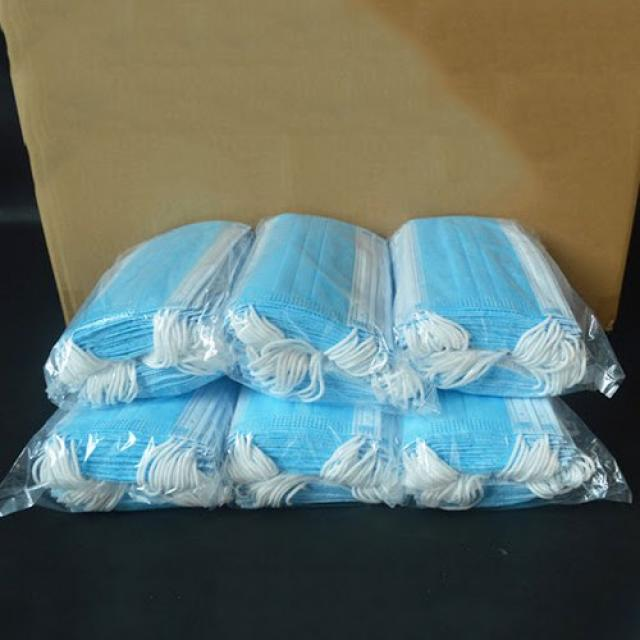non-organic waste: (48, 205, 258, 398), (236, 175, 398, 388), (408, 190, 570, 400), (399, 392, 612, 518), (32, 392, 234, 504), (218, 398, 403, 512)
